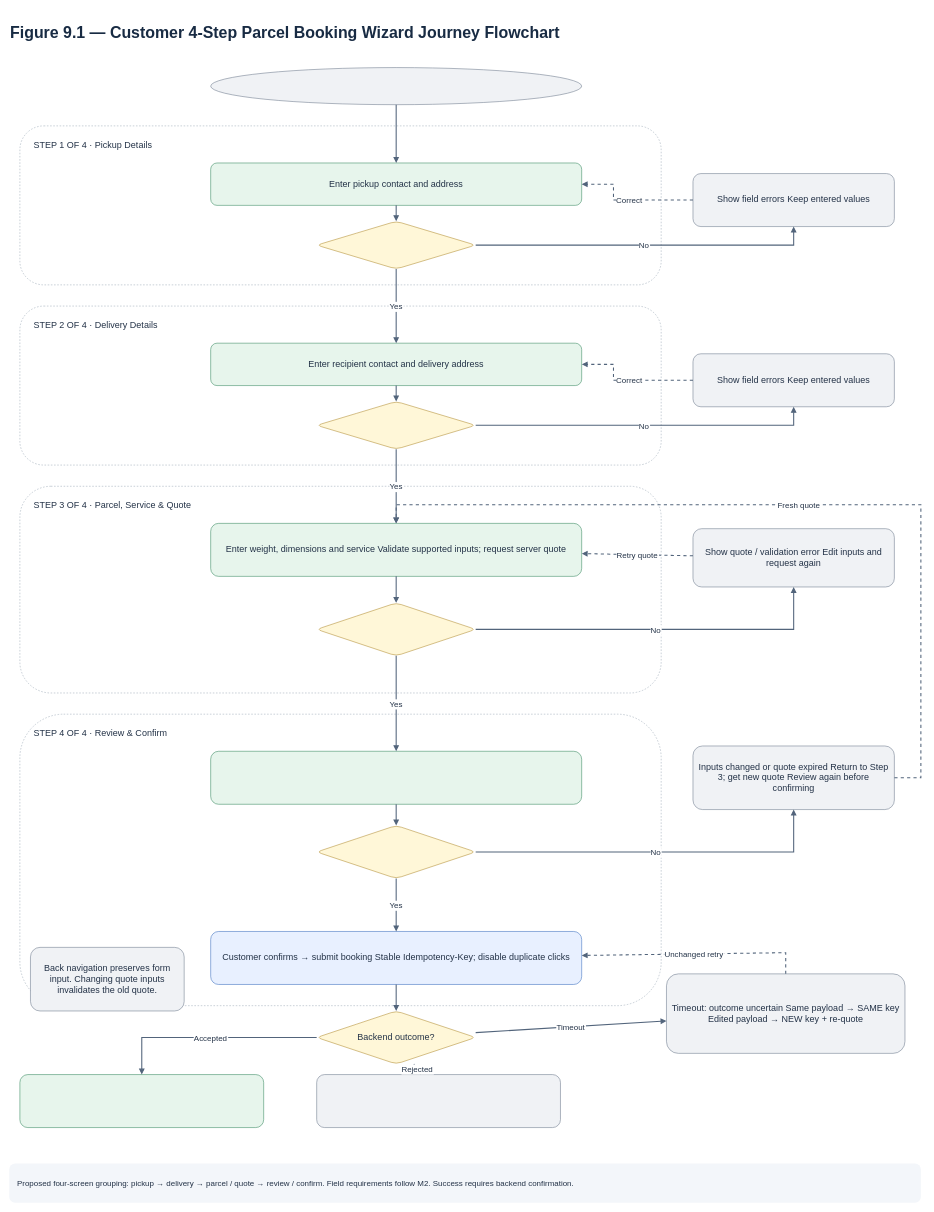
This 934x1212 diagram has some shape labels left out. The shapes that lost their labels are listed below. From the top down, each one's centre as x and y in pixels, then its label:
At pixel 396 86: "Signed-in customer opens booking wizard".
At pixel 396 245: "Pickup valid?".
At pixel 396 425: "Delivery valid?".
At pixel 396 629: "Quote available?".
At pixel 396 777: "Show contacts, addresses, parcel details Price + currency + quote expiry".
At pixel 396 851: "Quote current and inputs unchanged?".
At pixel 141 1101: "Accepted: show tracking number Links to tracking, history and receipt".
At pixel 438 1101: "Rejected: preserve values Correct the affected step".
